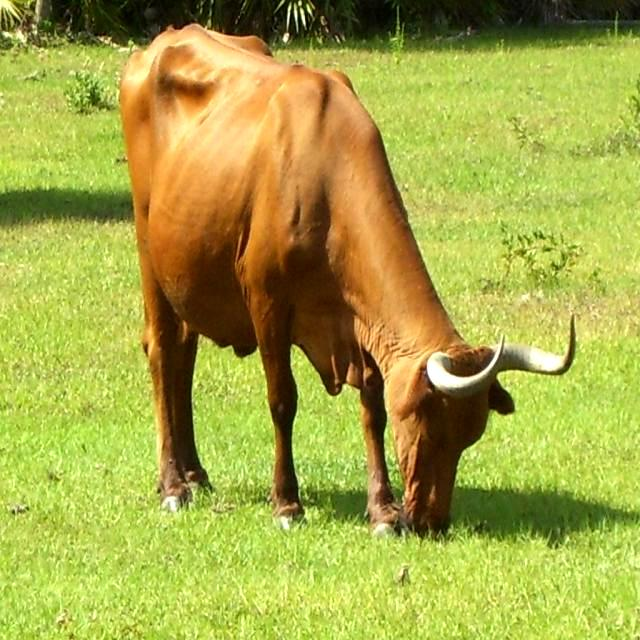COW: (120, 25, 575, 534)
